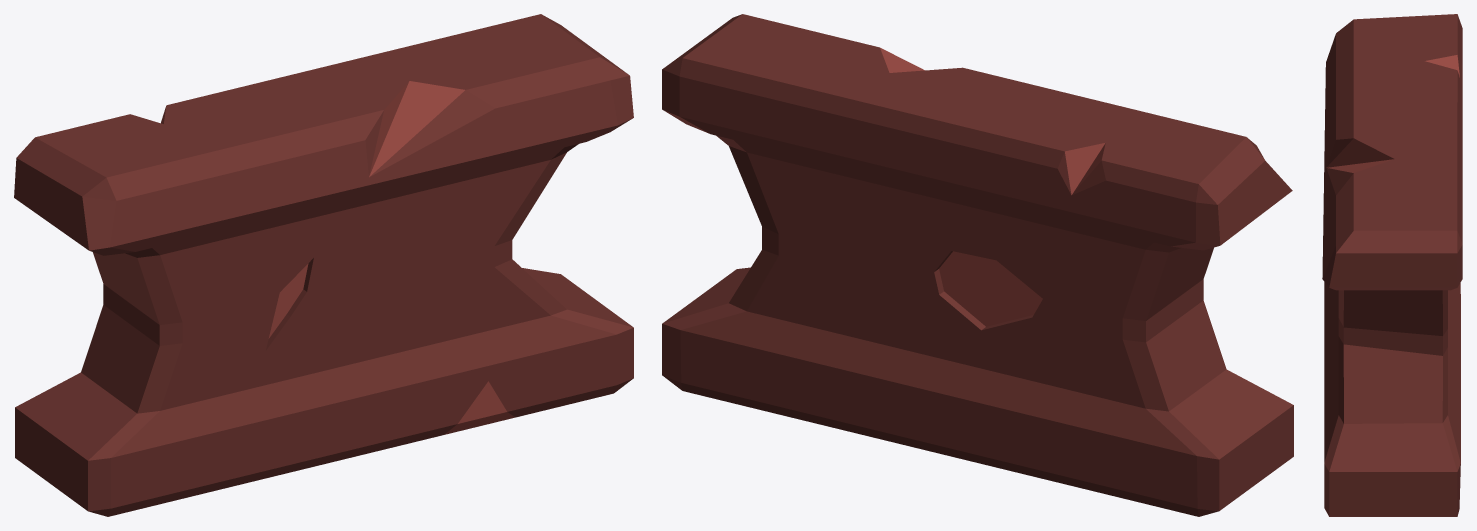
Rendered from Ruin_8_Red.fbx.
3 views of the same model, side by side, from view 1: azimuth 30°, elevation 25°; view 2: azimuth 150°, elevation 25°; view 3: azimuth 270°, elevation 25° (orthographic). The views are drawn at different scales.
Parts seen in each view (by area): view 1: Ruin_8_Red; view 2: Ruin_8_Red; view 3: Ruin_8_Red.
Boxes of the visible parts, left/top/right/bottom form: Ruin_8_Red: left=14, top=14, right=633, bottom=516; Ruin_8_Red: left=662, top=14, right=1293, bottom=516; Ruin_8_Red: left=1322, top=14, right=1462, bottom=516.
Size of the model in its own units: 401 by 228 by 101.
